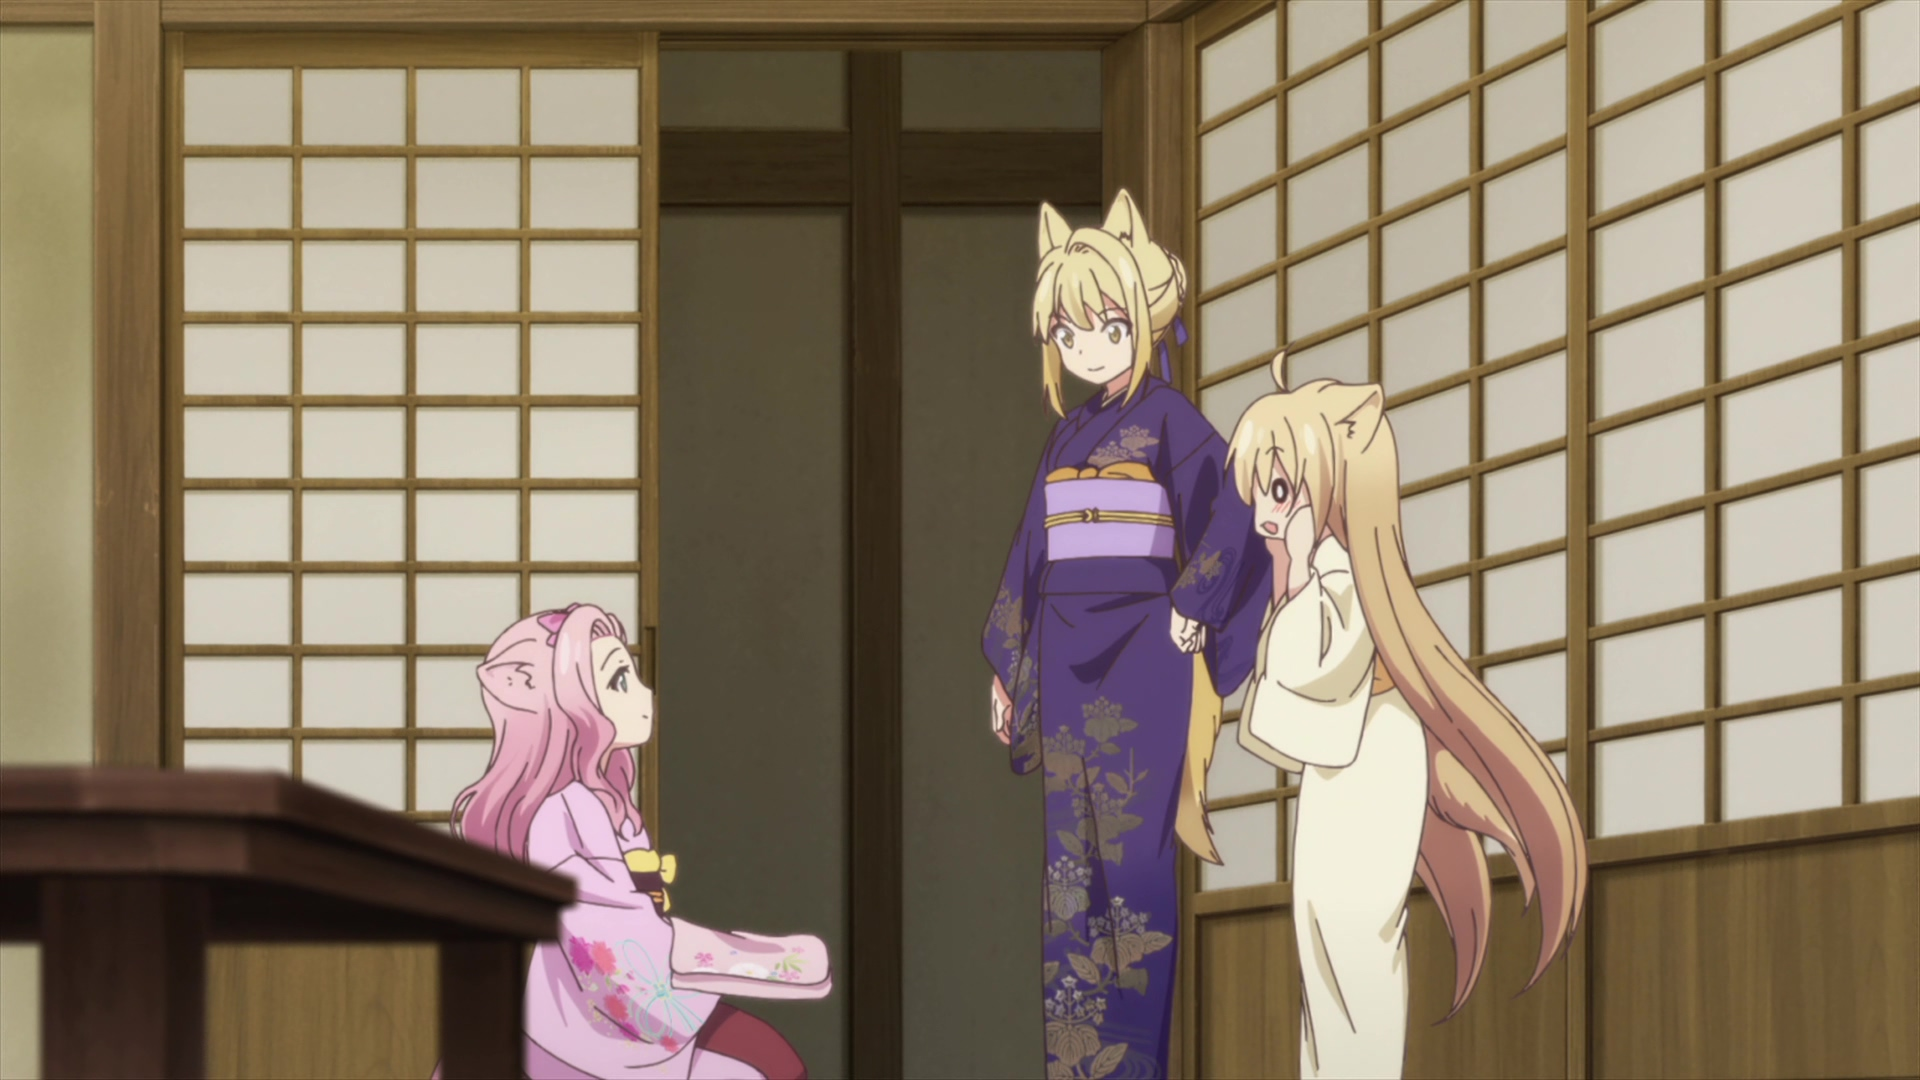柚: (1221, 348, 1586, 1080)
桐: (980, 187, 1273, 1080)
莲: (451, 601, 832, 1080)
